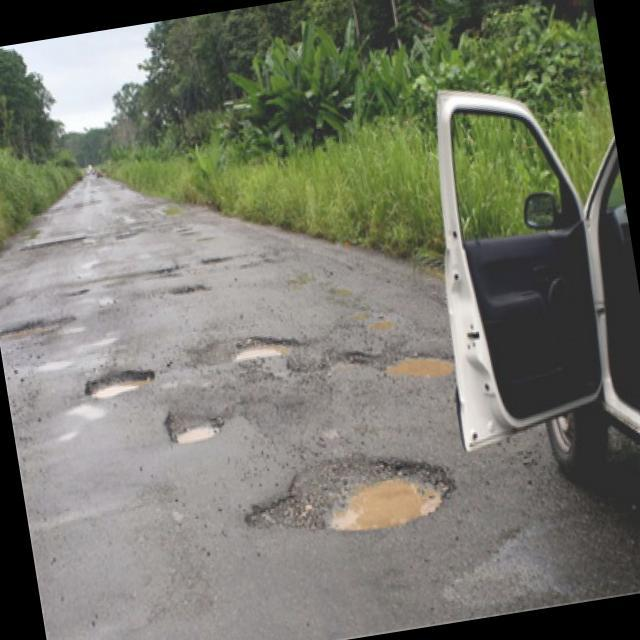Pothole: (238, 421, 476, 558), (378, 338, 458, 389), (163, 399, 230, 453), (81, 360, 160, 402), (228, 328, 301, 372), (0, 309, 77, 340), (21, 231, 88, 253), (146, 259, 182, 283), (170, 279, 208, 300), (201, 252, 231, 267)
